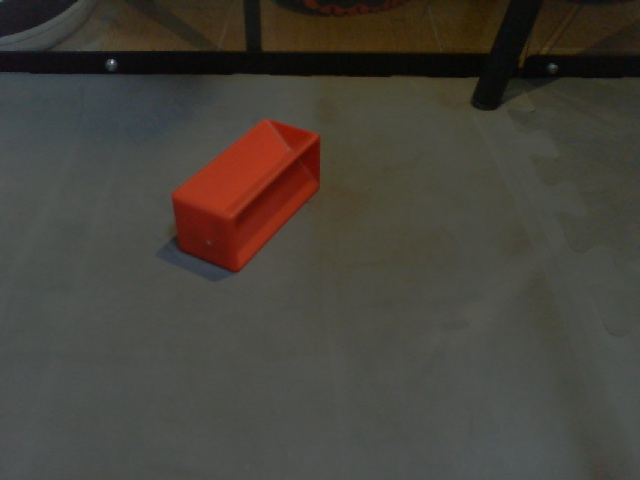RedSample: (168, 114, 323, 273)
